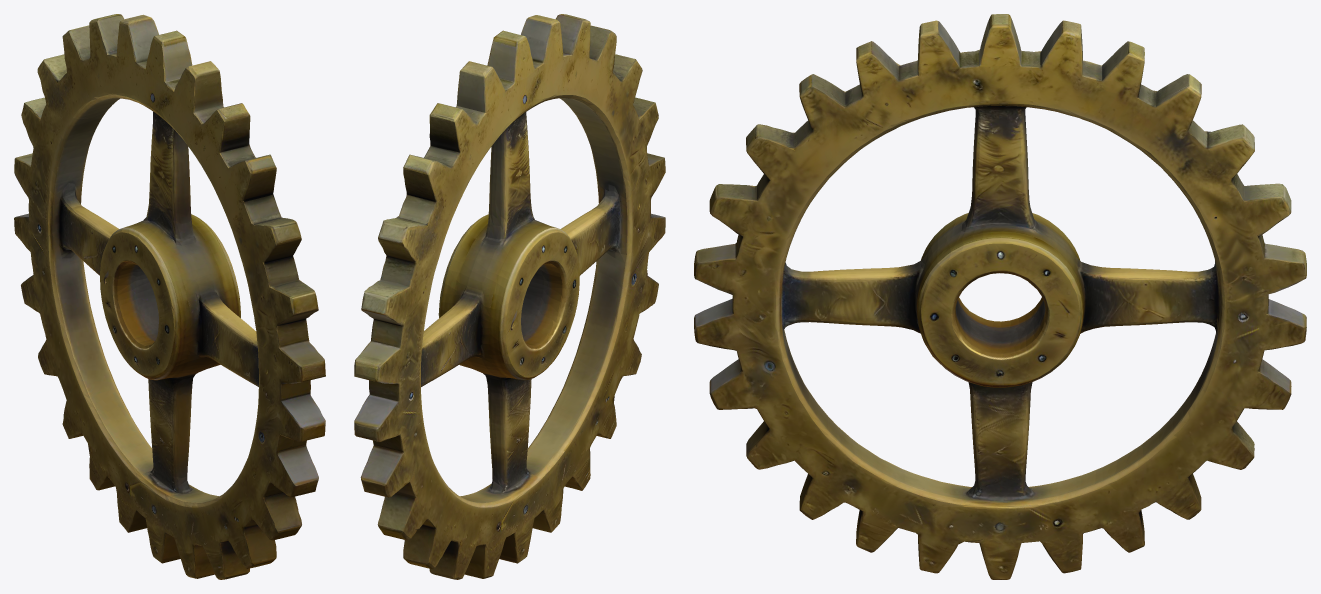
File: brass2.glb
3 views of the same model, side by side, from view 1: azimuth 30°, elevation 25°; view 2: azimuth 150°, elevation 25°; view 3: azimuth 270°, elevation 25° (orthographic). The views are drawn at different scales.
Parts seen in each view (by area): view 1: tripo_node_cee0bf26-1aa8-4b02-9b84-ad3953d14c4b; view 2: tripo_node_cee0bf26-1aa8-4b02-9b84-ad3953d14c4b; view 3: tripo_node_cee0bf26-1aa8-4b02-9b84-ad3953d14c4b.
Boxes of the visible parts, x1,y1,x2,y2 form: tripo_node_cee0bf26-1aa8-4b02-9b84-ad3953d14c4b: (14,14,325,579); tripo_node_cee0bf26-1aa8-4b02-9b84-ad3953d14c4b: (354,14,665,579); tripo_node_cee0bf26-1aa8-4b02-9b84-ad3953d14c4b: (694,14,1306,579).
Bounding box in the file's own units: 0.1388 × 0.9998 × 0.9998.
Materials: 1 (1 with a texture image).
